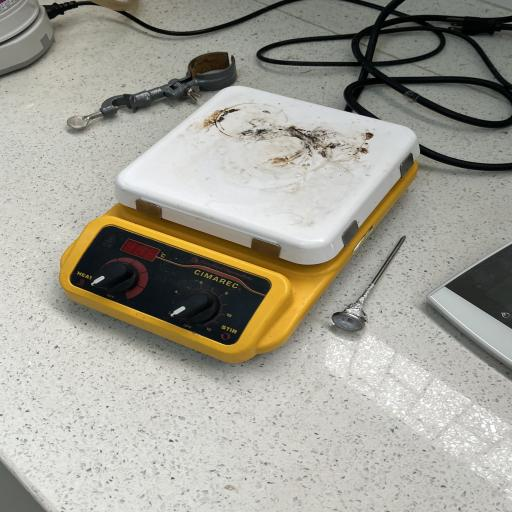Plancha_Agitacion_Cimarec: (47, 76, 429, 375)
